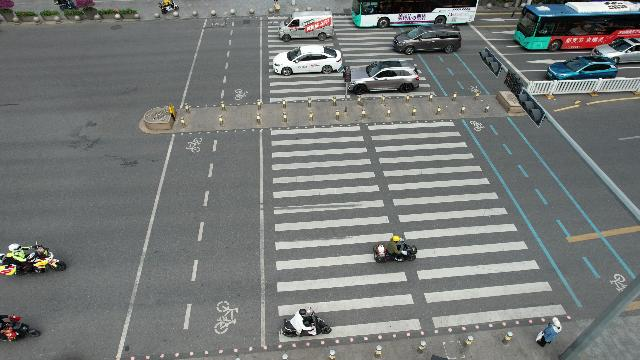non-motor-vehicle: (1, 240, 64, 280), (285, 308, 333, 338), (368, 236, 418, 262), (0, 312, 38, 344), (151, 0, 179, 10)
person: (538, 316, 562, 344)
